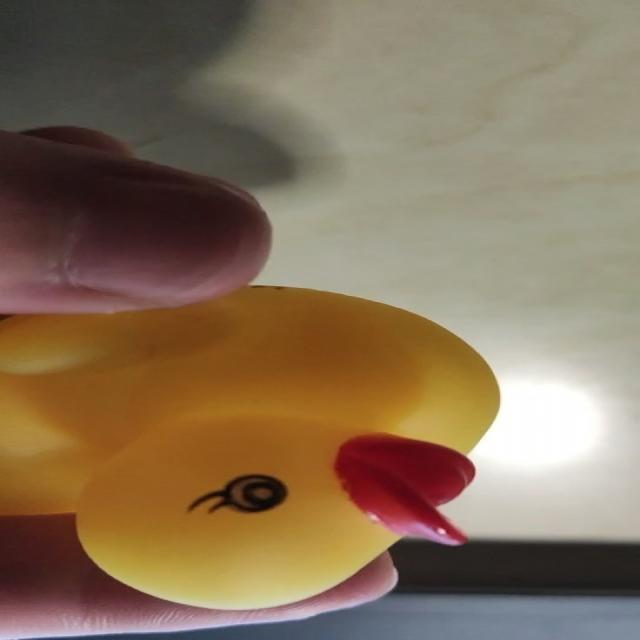rubber-duck: (0, 286, 496, 607)
